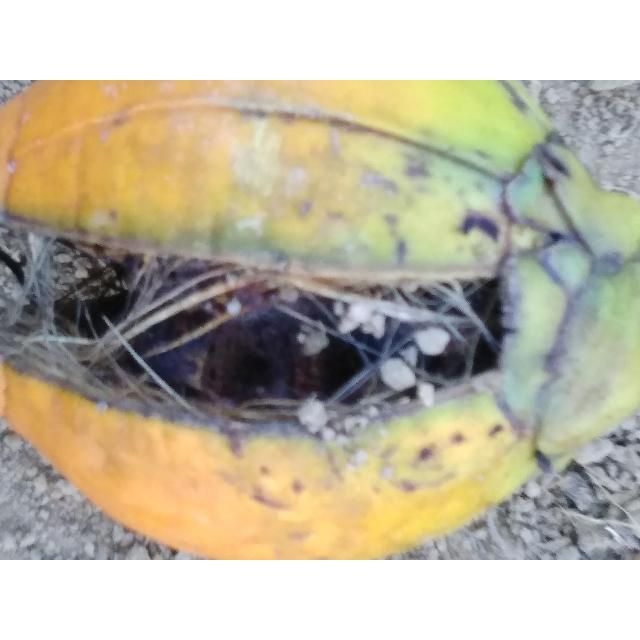damaged: (0, 80, 640, 560)
